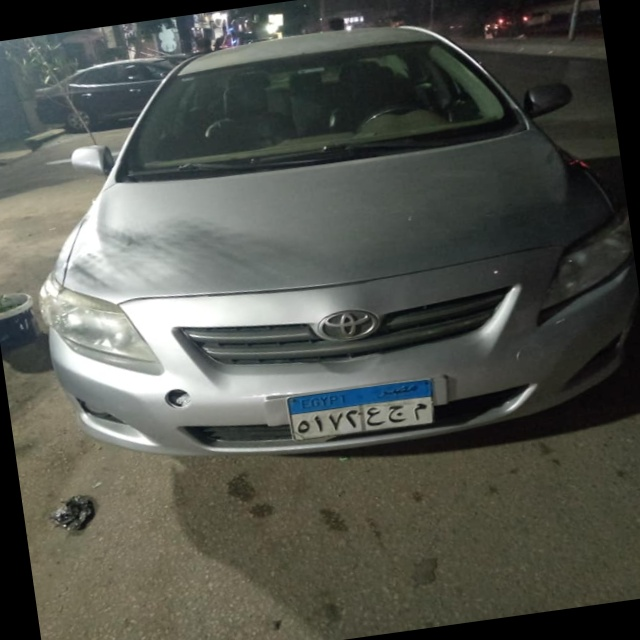License Plate: (285, 375, 439, 445)
